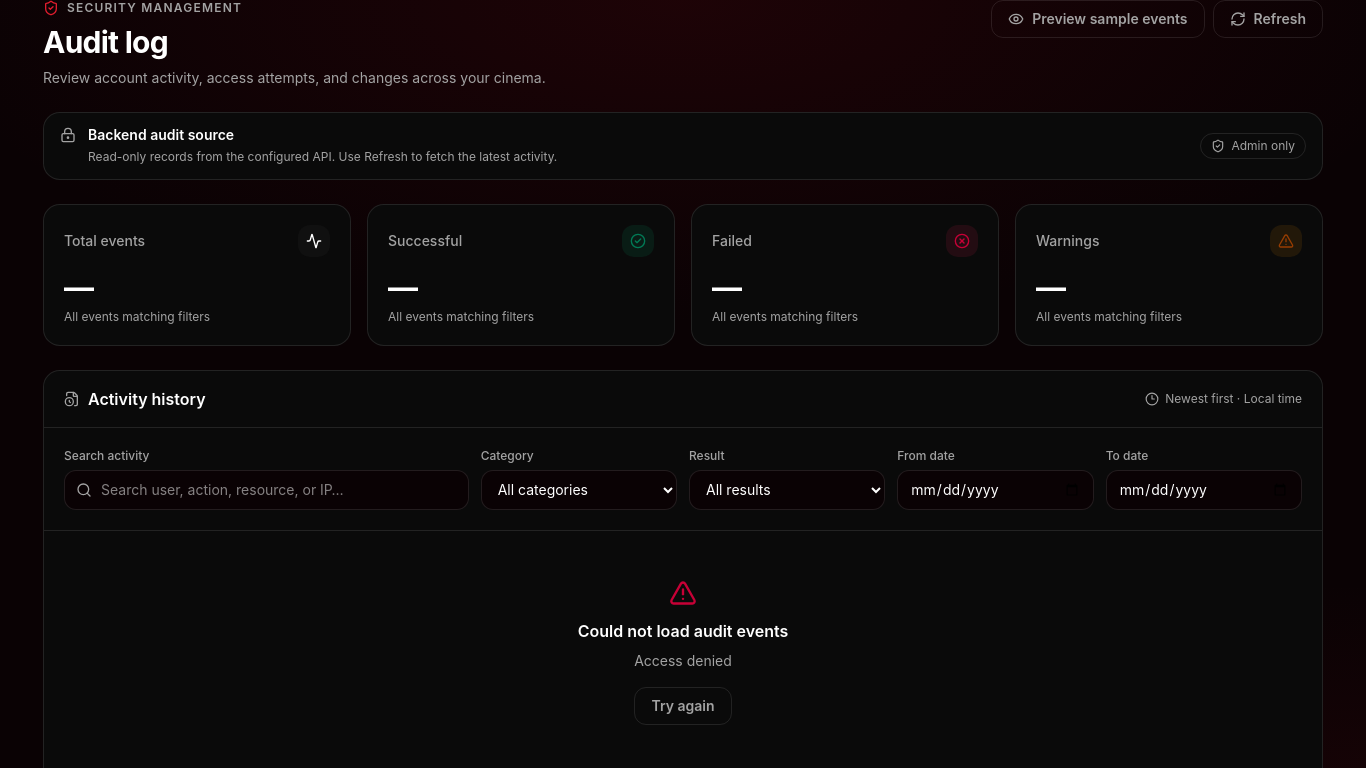
Scenario: Audit Logs page › shows API failures without substituting samples and supports retry
Expected: the message "Could not load audit events Access denied Try again" is shown, left=578, top=578, right=788, bottom=724
Click the button "Try again": (683, 706) left=634, top=686, right=732, bottom=724
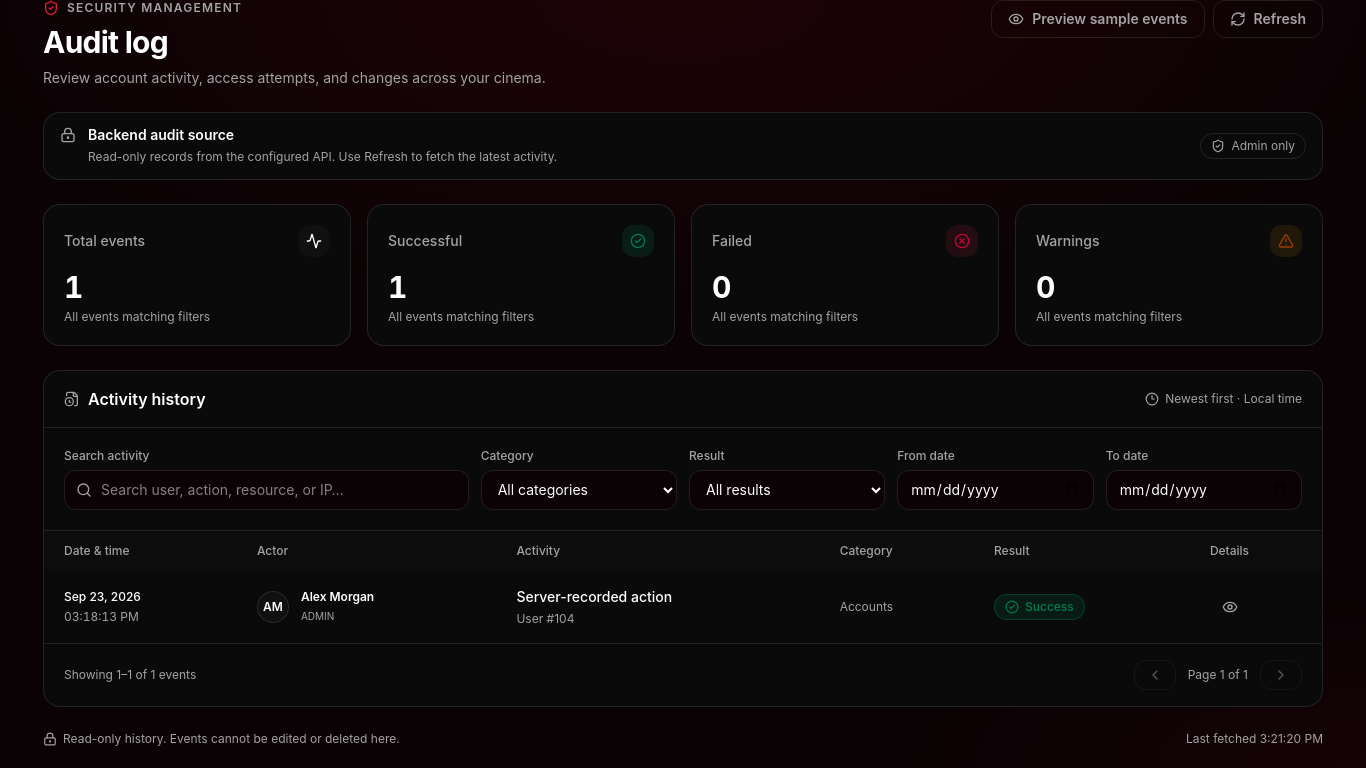
Now the text "Server-recorded action" is shown, box left=516, top=588, right=672, bottom=604
